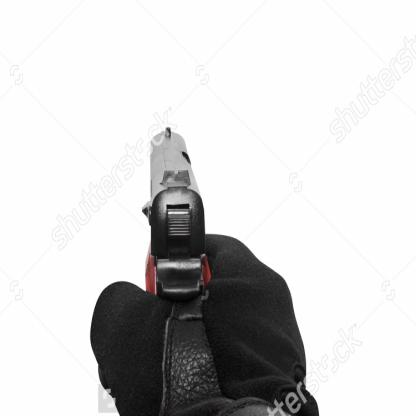gun: (140, 122, 216, 310)
